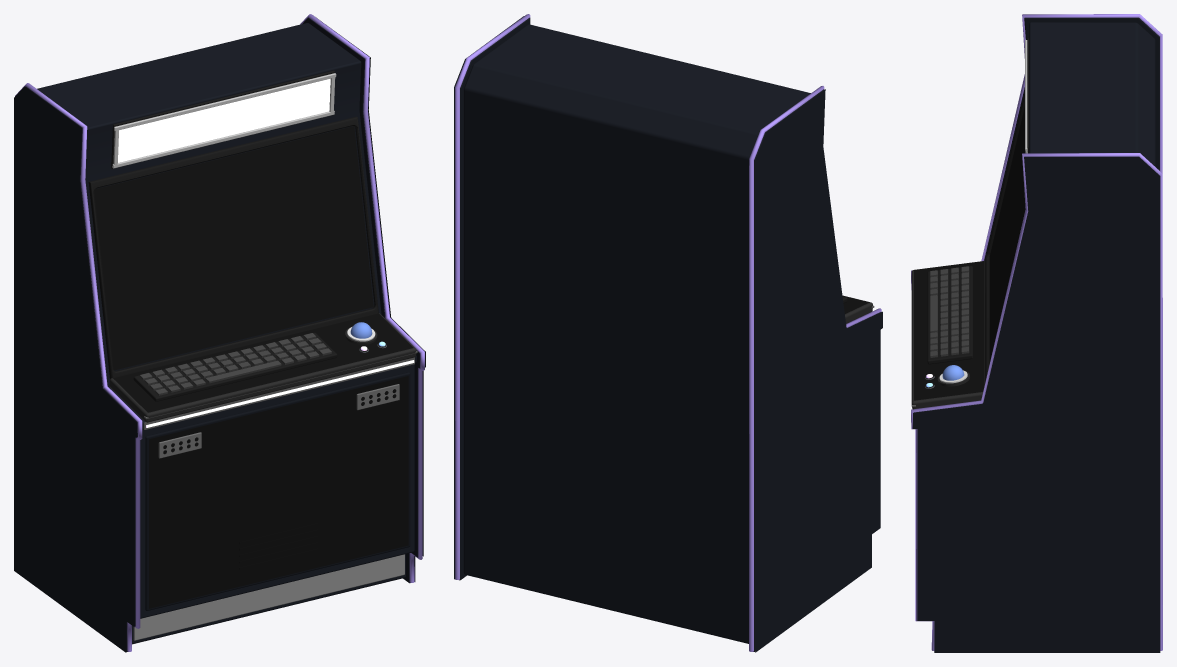
The model's file is mach-riftcast.glb.
The picture shows the model from 3 angles, left to right: view 1: azimuth 30°, elevation 25°; view 2: azimuth 150°, elevation 25°; view 3: azimuth 270°, elevation 25°; orthographic projection. The views are drawn at different scales.
Parts seen in each view (by area): view 1: screen, side_art_l, front_art, glass, body, controls, metal, marquee, trim, deck_art, speaker, side_art_r; view 2: body, side_art_l, trim; view 3: side_art_r, body, controls, trim, deck_art, screen, glass, metal, trackball.
Boxes of the visible parts, box(x1,y1,x2,y2) form: screen: box(94, 126, 373, 370); side_art_l: box(14, 86, 136, 652); front_art: box(149, 376, 408, 608); glass: box(95, 126, 374, 370); body: box(25, 17, 425, 651); controls: box(88, 70, 416, 569); metal: box(112, 73, 417, 640); marquee: box(118, 78, 330, 162); trim: box(15, 14, 424, 651); deck_art: box(113, 313, 413, 412); speaker: box(158, 384, 399, 458); side_art_r: box(316, 17, 425, 581); body: box(459, 17, 881, 651); side_art_l: box(755, 89, 882, 652); trim: box(455, 14, 881, 651); side_art_r: box(913, 157, 1160, 652); body: box(914, 17, 1159, 412); controls: box(911, 38, 1028, 409); trim: box(911, 14, 1162, 650); deck_art: box(914, 261, 984, 400); screen: box(989, 107, 1025, 363); glass: box(987, 97, 1024, 366); metal: box(911, 40, 1027, 407); trackball: box(937, 365, 969, 386).
Bounding box in the file's own units: 0.953 × 1.56 × 0.7132.
